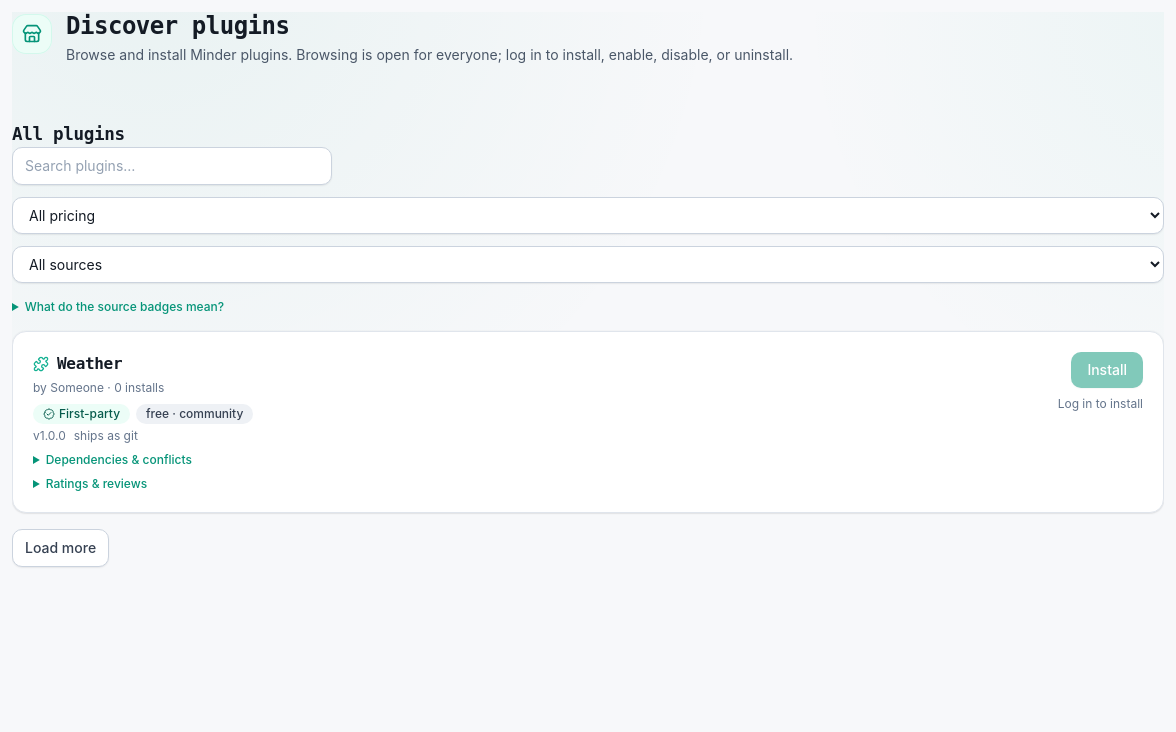
Test: Discover plugins: catalog states › keeps loaded plugins when Load more fails, and Retry appends the missing page
Expected: the heading "Weather" is shown, [33,354,122,373]
What coordinates should you click on to do the following:
click the button "Load more"
I would click on:
 (61, 548)
Its box is [12,529,109,567].
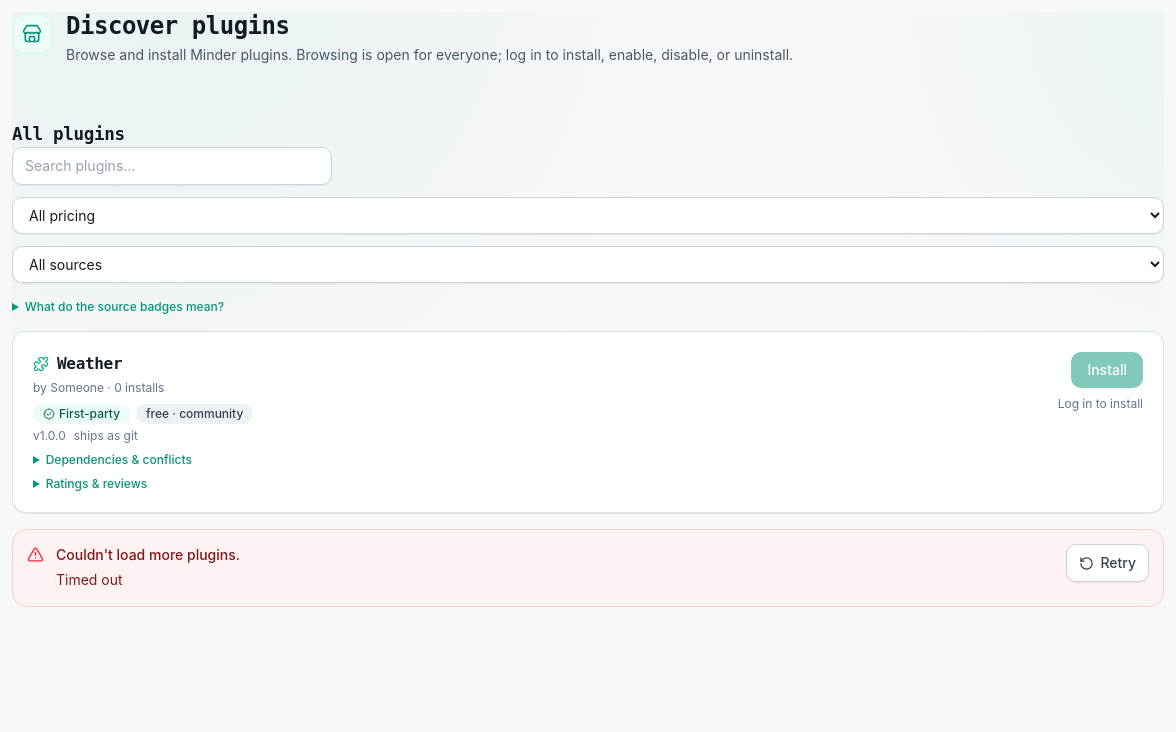
Expected: the heading "Weather" is shown, [33,354,122,373]
Now the message "Couldn't load more plugins. Timed out Retry" is shown, box [12,529,1164,607]
What coordinates should you click on to do the following:
click the button named "Retry loading more plugins"
I would click on:
 (1108, 563)
Its box is [1066,544,1149,582].
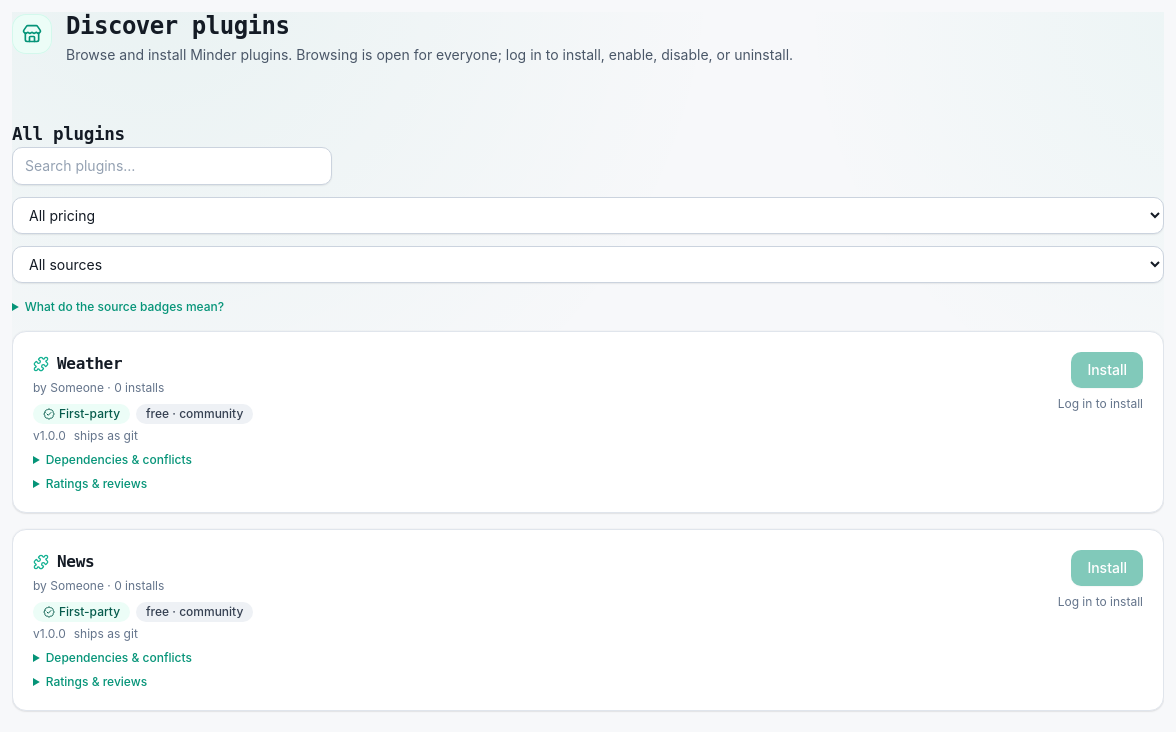
Expected: the heading "Weather" is shown, [33,354,122,373]
Now the heading "News" is shown, box [33,552,94,571]
